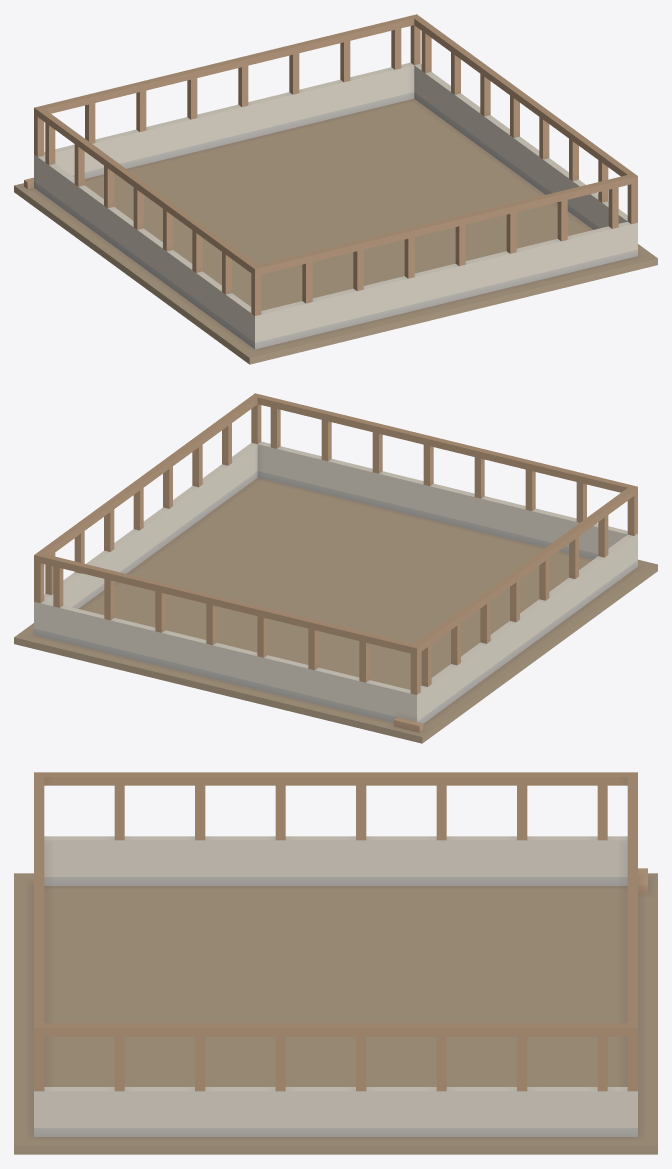
Rendered from life_stage_8.v1.glb.
3 views of the same model, one above another, from view 1: azimuth 30°, elevation 25°; view 2: azimuth 150°, elevation 25°; view 3: azimuth 270°, elevation 25° (orthographic). The views are drawn at different scales.
Parts seen in each view (by area): view 1: life_stage_8; view 2: life_stage_8; view 3: life_stage_8.
Part boxes in pixels (x1,y1,x2,y2): life_stage_8: (14, 14, 657, 364); life_stage_8: (14, 393, 657, 743); life_stage_8: (14, 772, 657, 1154).
Size of the model in its own units: 8 by 1.62 by 8.
